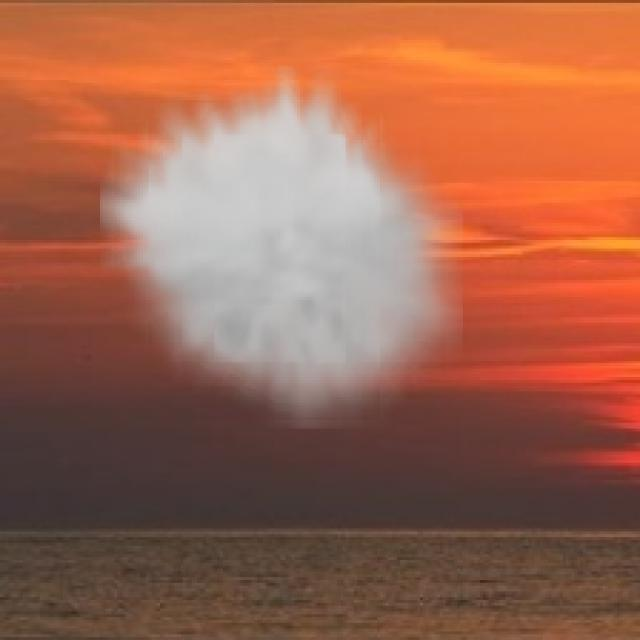smoke: (100, 66, 463, 428)
